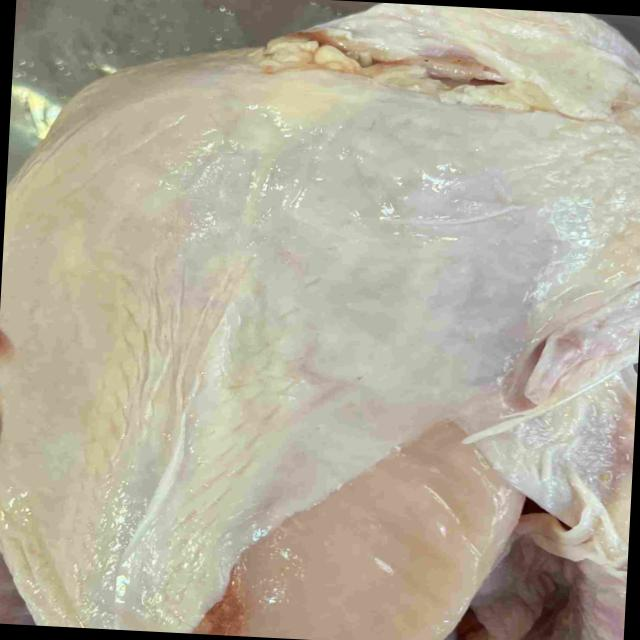breast: (0, 72, 621, 640)
leg: (0, 407, 35, 626)
wing: (531, 286, 640, 401)
